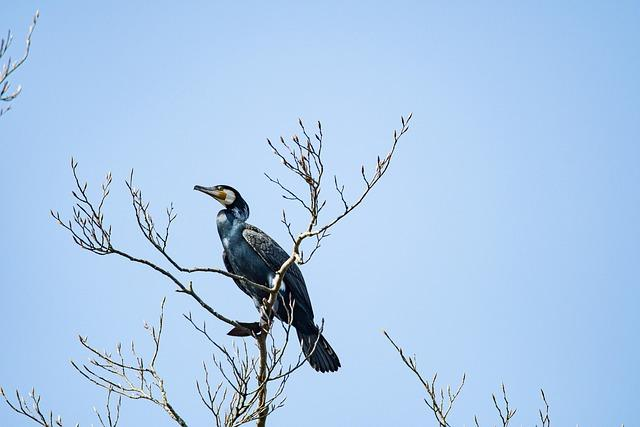Non_Gorille: (62, 9, 531, 427)
